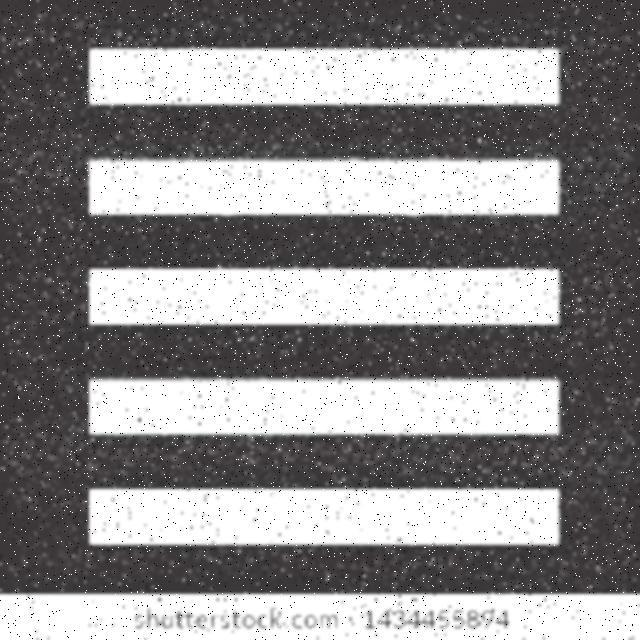crosswalk: (52, 14, 603, 574)
